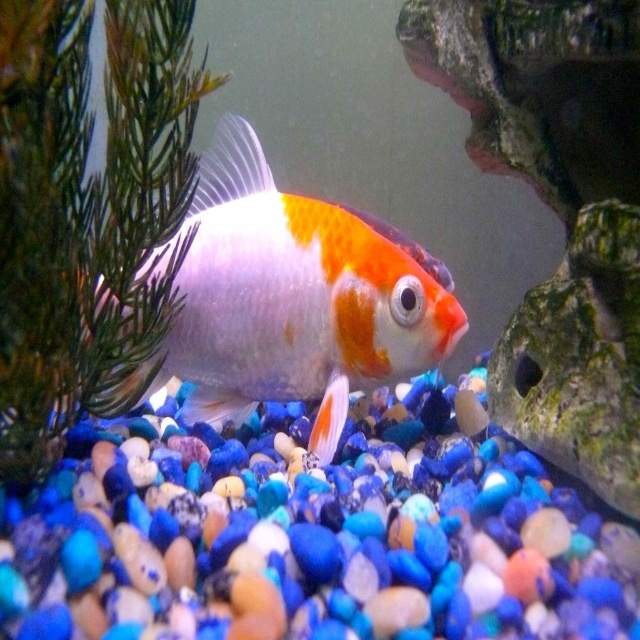Goldfish: (98, 113, 469, 466)
